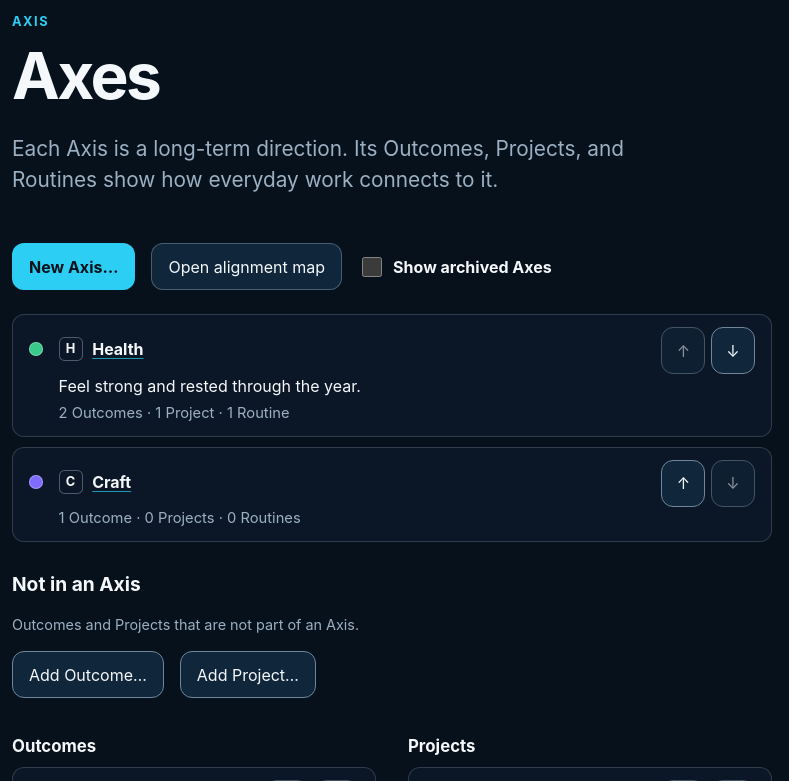
Axis overview › shows archived Axes only on request, in the URL, without reordering them
Check: the list named "Axes" is shown, box [12,314,772,542]
Click the checkbox labelled "Show archived Axes": (372, 267) [362,257,382,277]
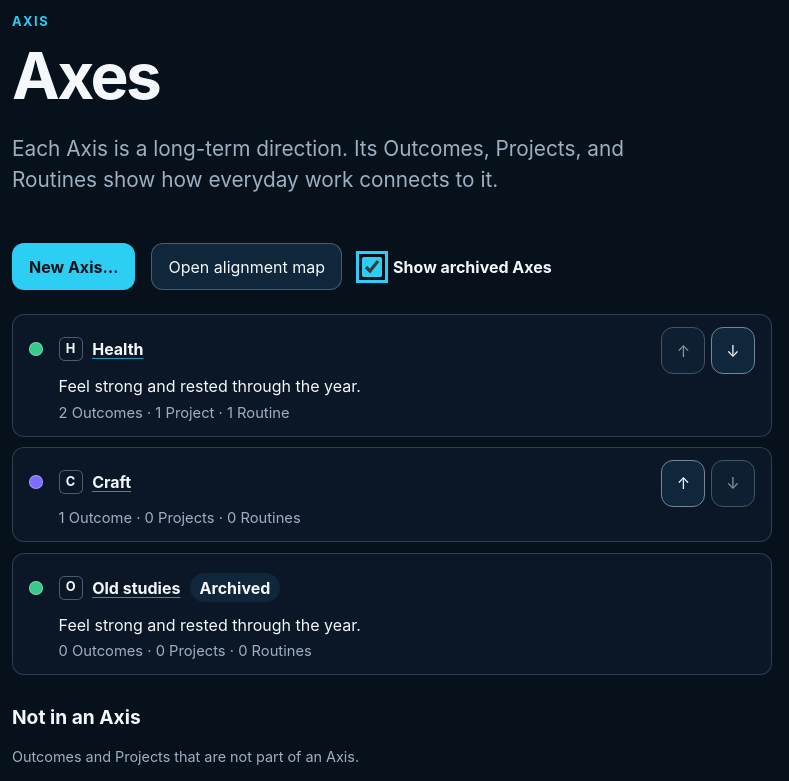
Check: the link "Old studies" is shown, box [92,578,180,598]
Check: the text "Archived" is shown, box [190,573,280,602]
